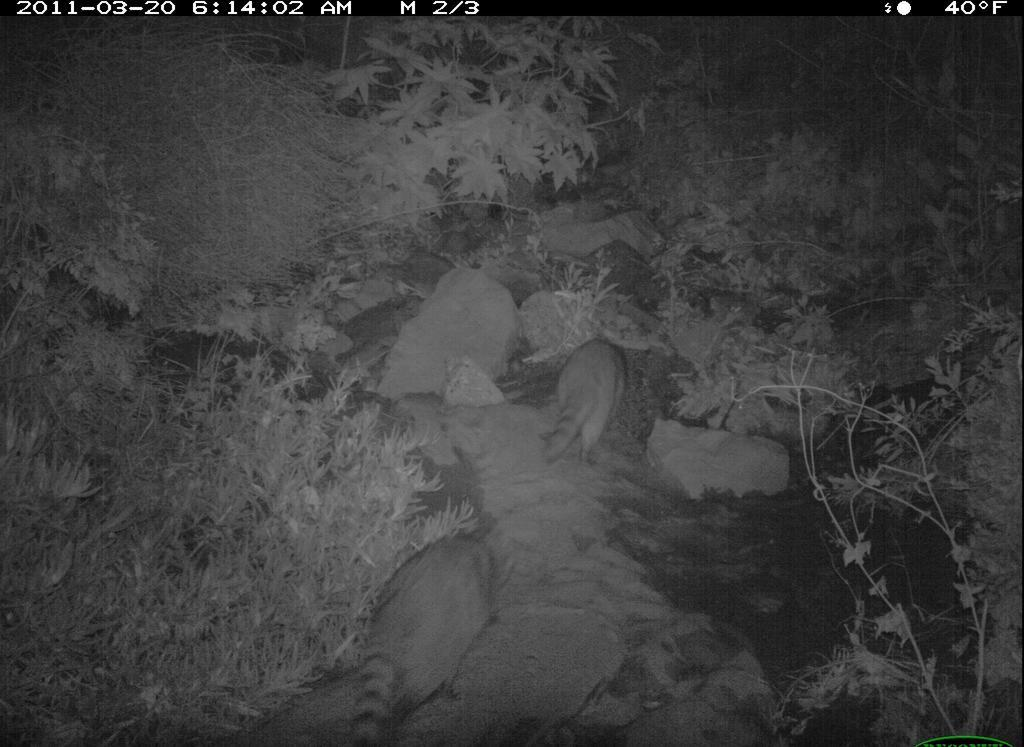raccoon: (342, 527, 509, 740), (534, 336, 639, 481)
